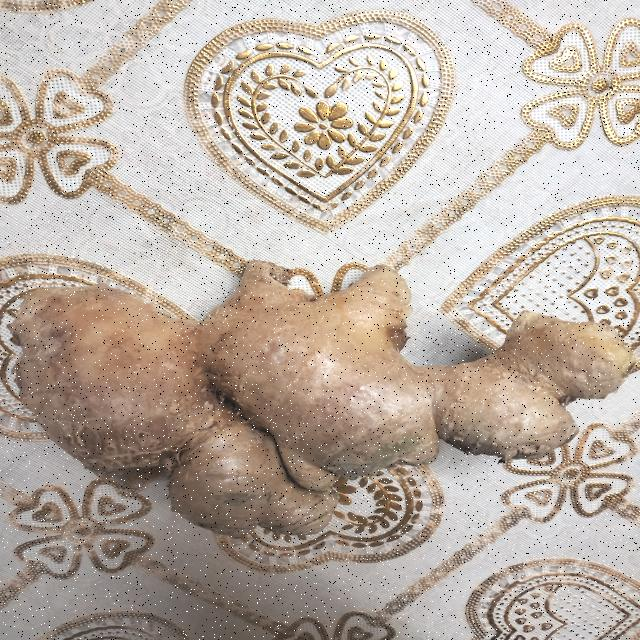ginger: (0, 256, 638, 529)
